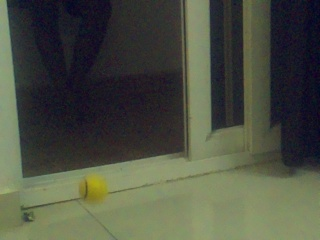ball: (79, 174, 107, 202)
